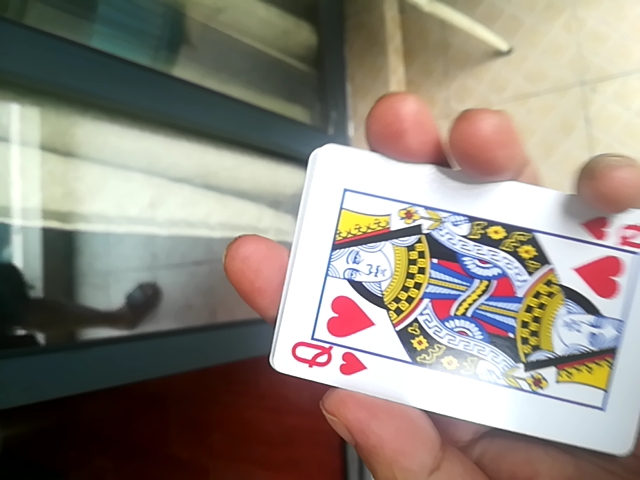hx q: (267, 151, 640, 460)
